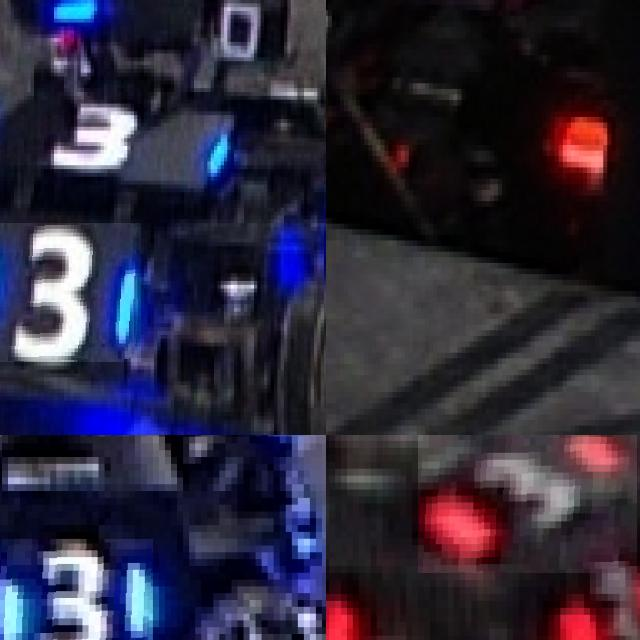B3: (0, 223, 140, 362), (0, 539, 153, 640)
R3: (417, 435, 637, 573), (548, 559, 640, 640)
